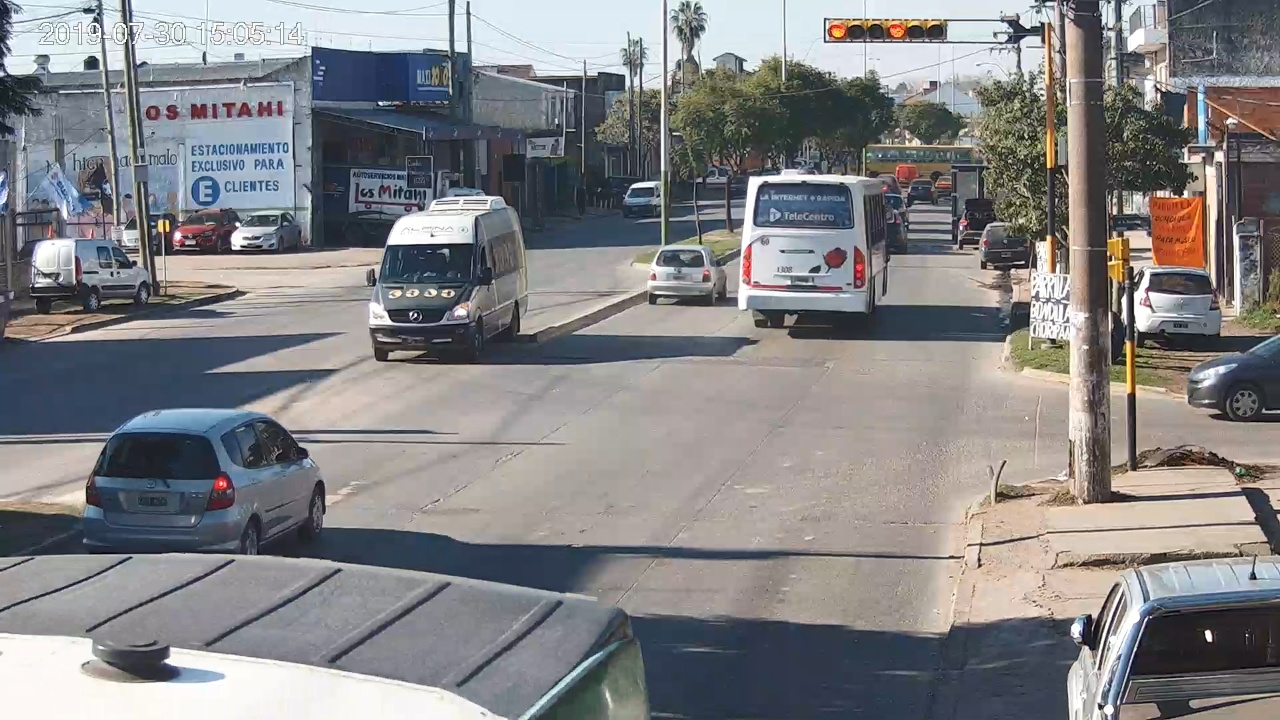bus: (737, 175, 888, 329)
car: (82, 409, 326, 554), (648, 246, 728, 306)
front car: (366, 195, 528, 362)
traffic light: (827, 17, 948, 43)
